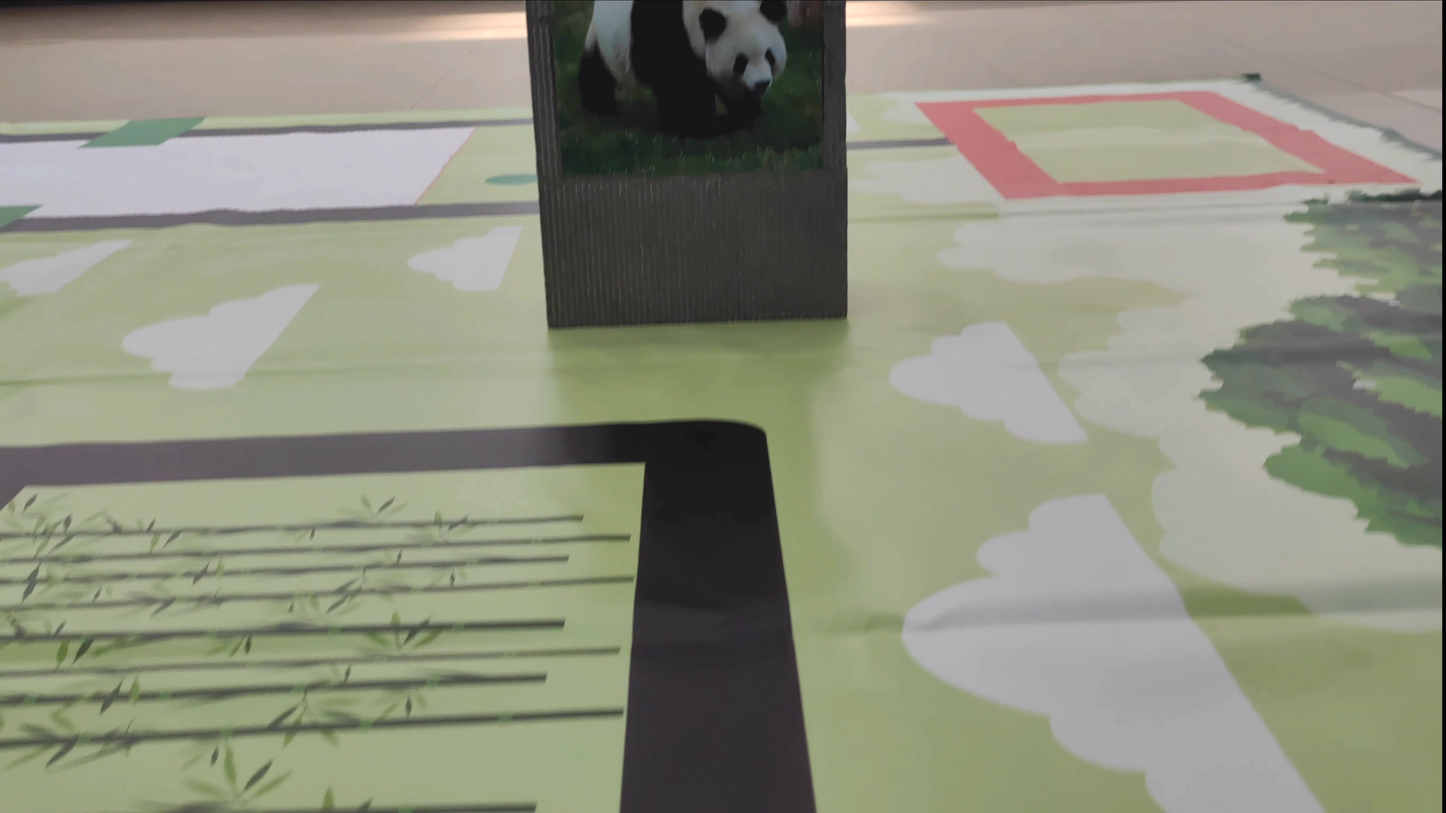panda: (563, 2, 824, 136)
